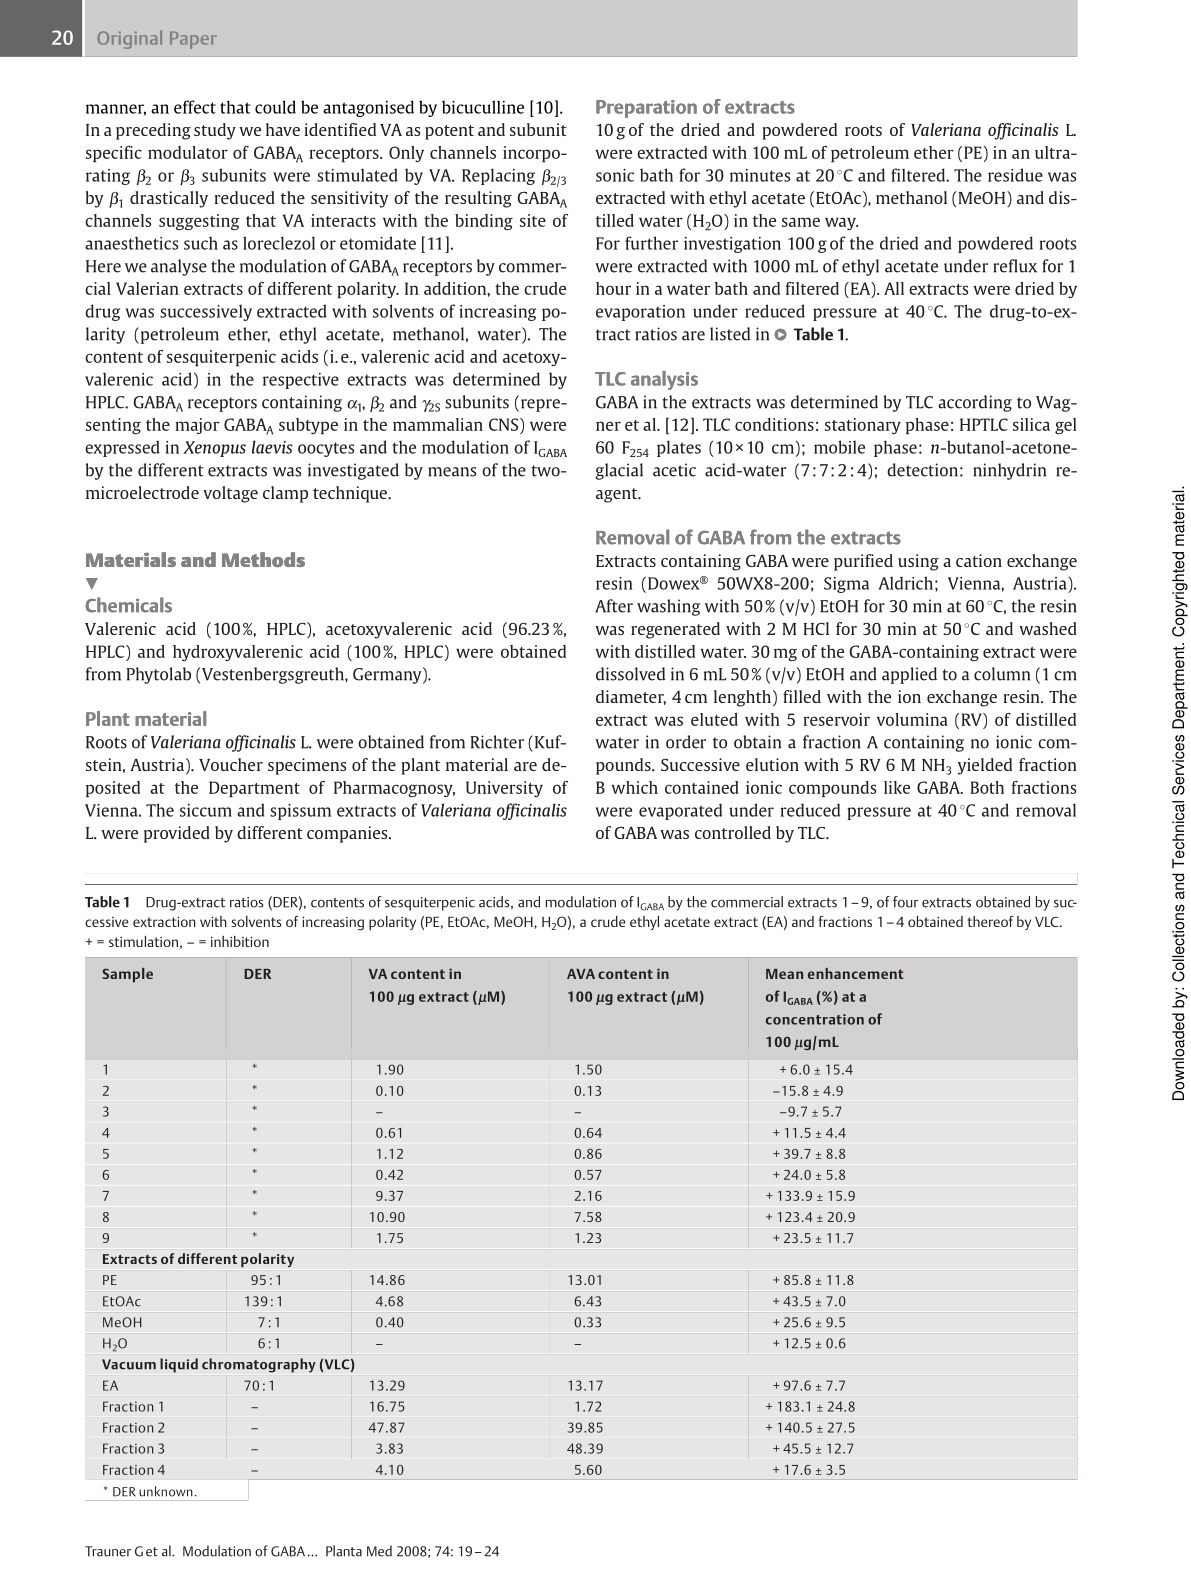merged_cells: (84, 957, 1078, 1480)
